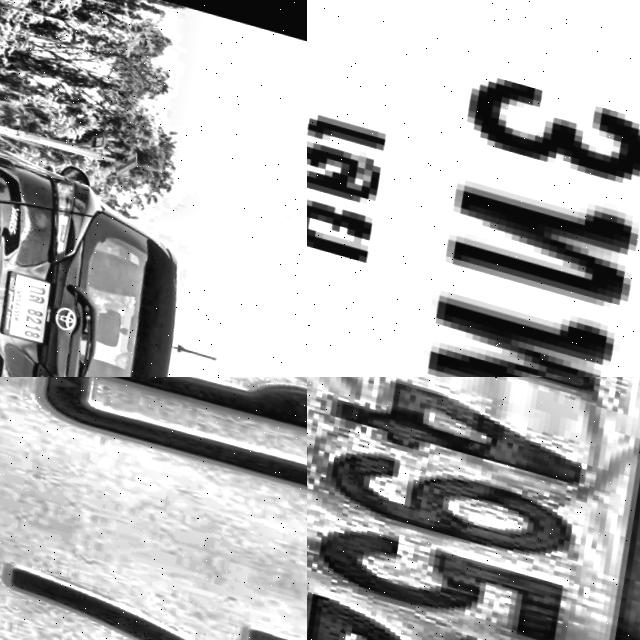license-plate: (307, 0, 640, 377), (307, 377, 640, 640), (0, 377, 307, 640), (0, 259, 57, 342)
